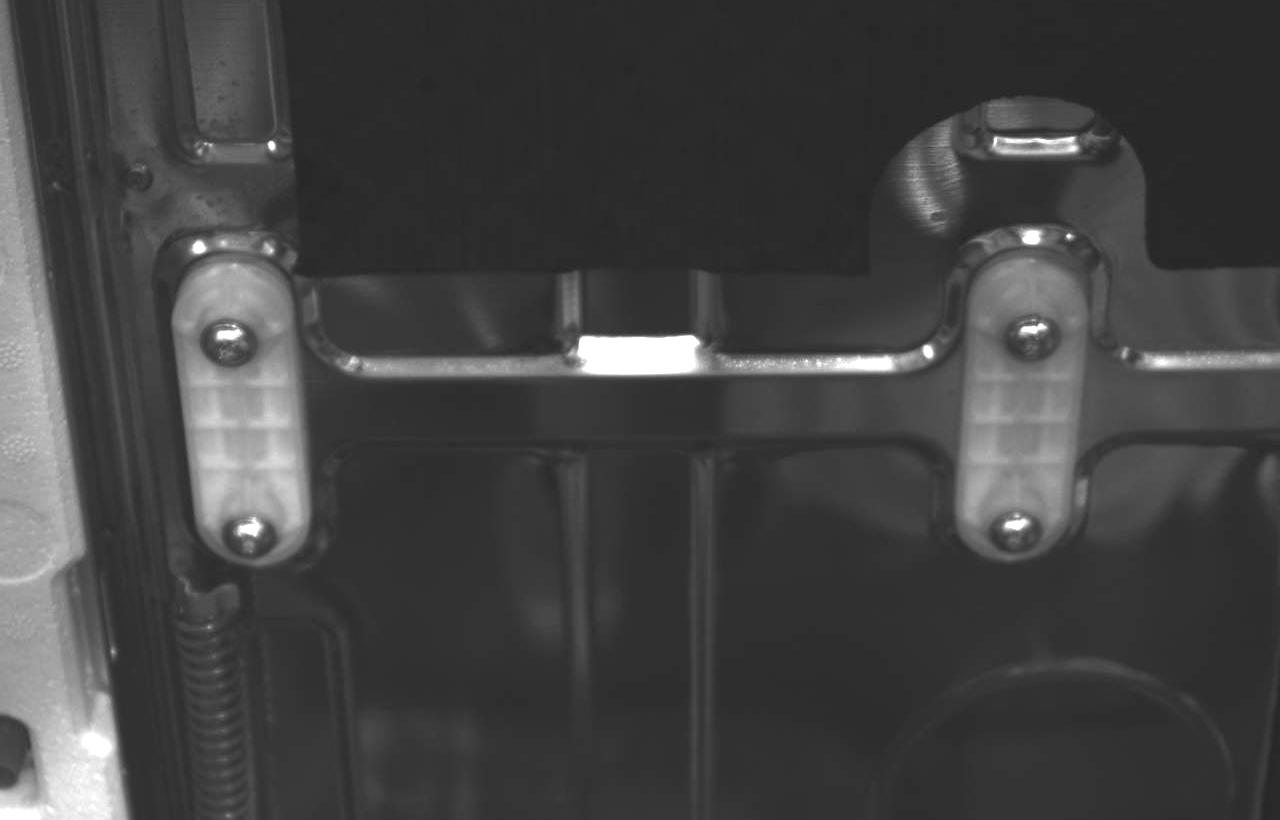vida-ok: (193, 311, 264, 378), (999, 305, 1066, 372), (983, 494, 1049, 562), (217, 505, 283, 564)
